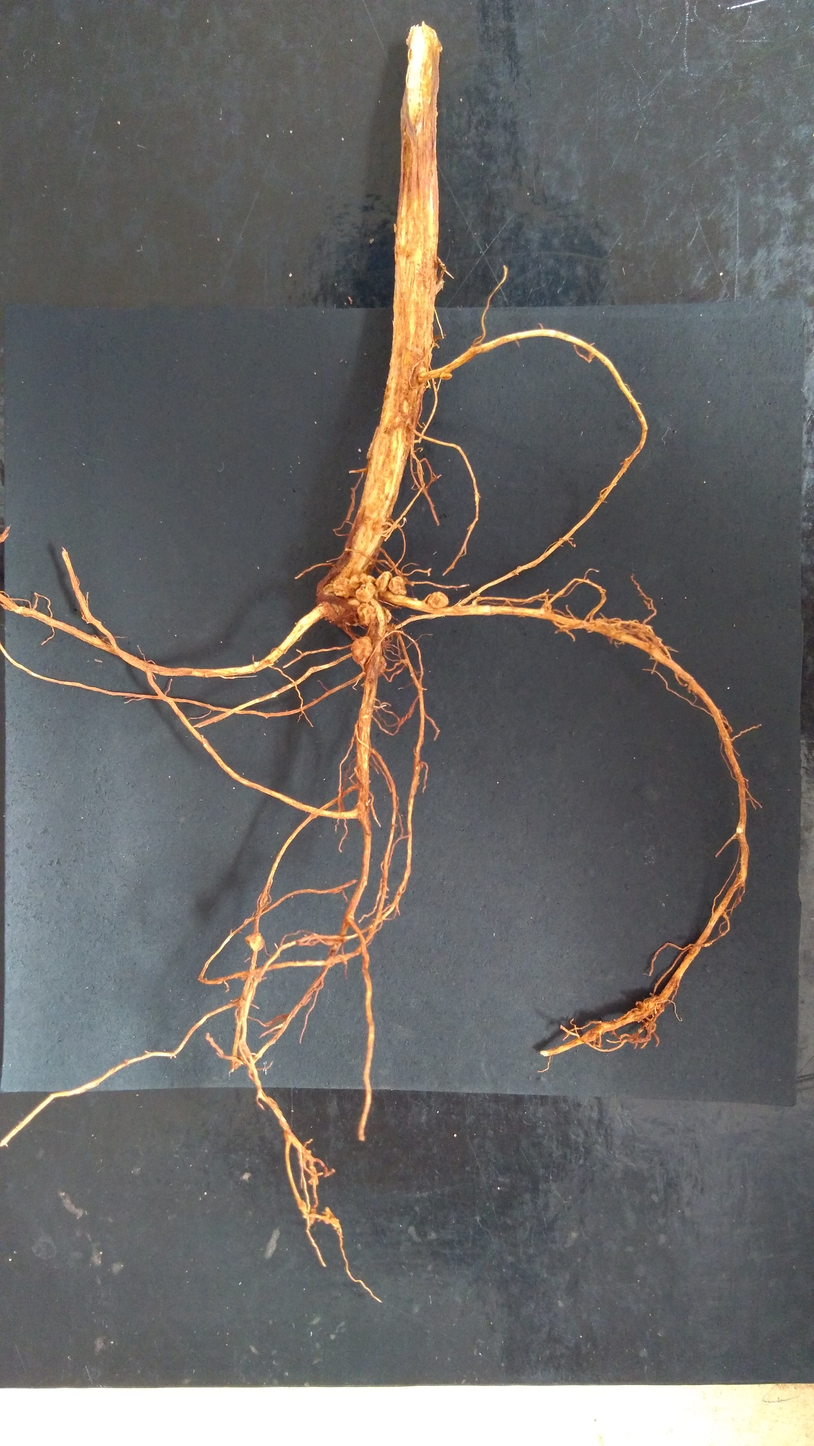nodule: (355, 602, 392, 626), (349, 635, 373, 665), (331, 577, 354, 600), (349, 573, 377, 591), (354, 582, 376, 603), (387, 575, 407, 598), (374, 570, 393, 594), (244, 932, 265, 952), (425, 592, 449, 609), (347, 596, 370, 612), (636, 996, 659, 1011), (376, 655, 387, 678), (416, 365, 427, 385), (439, 370, 453, 381), (688, 946, 696, 955)
